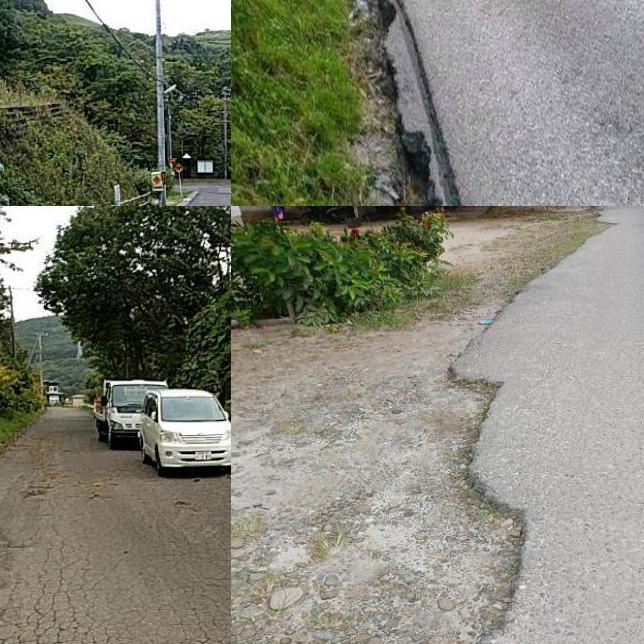Pinggir: (422, 287, 539, 644), (340, 0, 484, 206)
